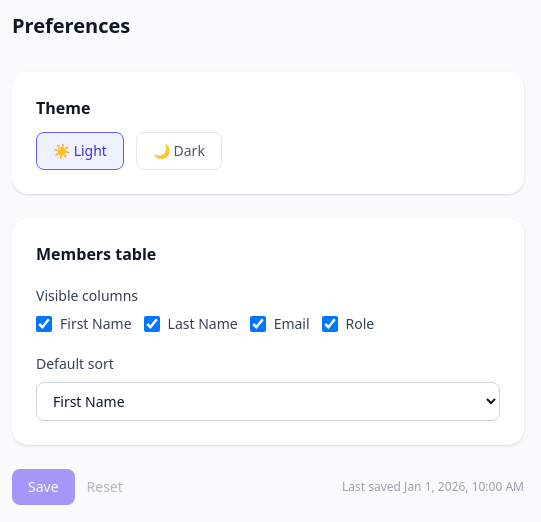
it: PreferencesPage › Reset action › reverts unsaved theme change back to the last saved value
Expected: the text "Last saved Jan 1, 2026, 10:00 AM" is shown, [342,479,524,495]
What coordinates should you click on to do the following:
click the radio button labelled "🌙 Dark"
I would click on:
 (179, 151)
Its box is [136,132,222,170].
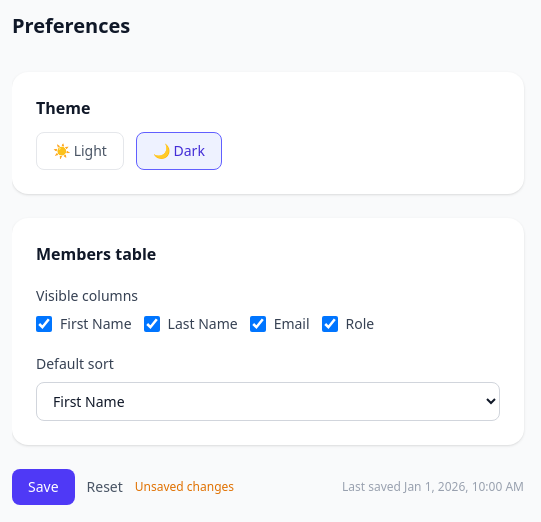
Expected: the radio button labelled "🌙 Dark" is checked, [136,132,222,170]
What coordinates should you click on to do the following:
click the button "Reset"
I would click on:
 (105, 487)
Its box is [87,477,123,497].
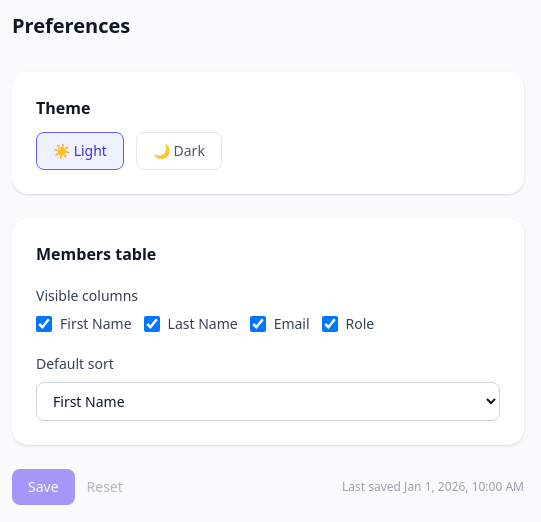
Expected: the radio button labelled "☀️ Light" is checked, [36,132,124,170]
